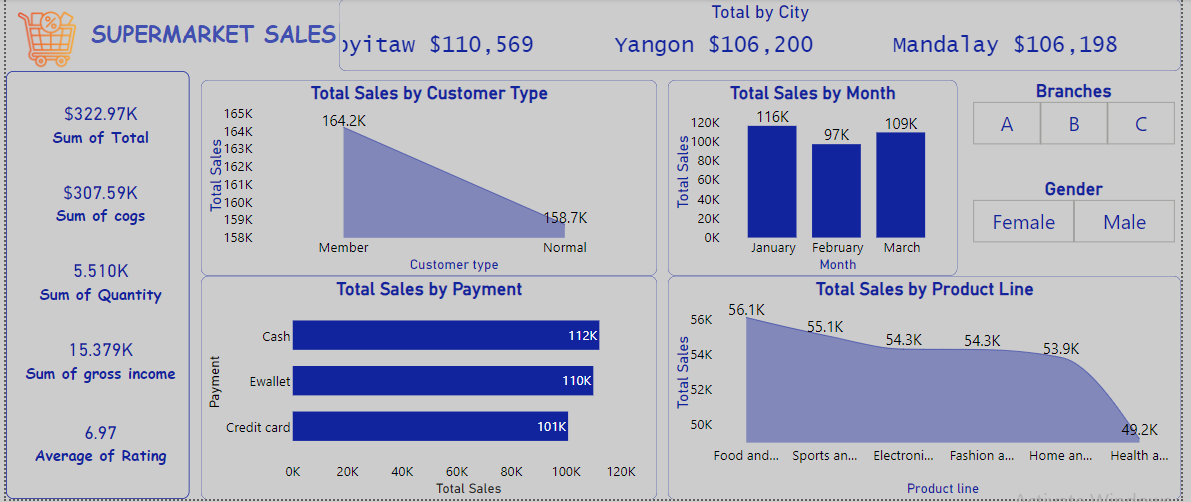

The page's visual inventory and layout, read from the dashboard file:
{"tool":"powerbi","page":{"name":"Page 1","canvas":[4700,2000],"ordinal":0},"visuals":[{"type":"textbox","box":[327.6,69.9,1004.6,144.1],"z":0},{"type":"image","box":[0,30.6,327.6,257.7],"z":1},{"type":"ScrollingTextVisual1448795304508","title":"Total by City","fields":{"Measure Absolute":["Sum(supermarket_sales - Sheet1.Total)"],"Category":["supermarket_sales - Sheet1.City"]},"box":[1332.2,0,3367.8,288.3],"z":2},{"type":"shape","box":[0,288,733.8,1712.3],"z":3,"group":"g1"},{"type":"card","title":"Total Sales","fields":{"Values":["Sum(supermarket_sales - Sheet1.Total)"]},"box":[23.2,323.2,709.8,333.5],"z":4,"group":"g1"},{"type":"card","title":"Total Sales","fields":{"Values":["Sum(supermarket_sales - Sheet1.Quantity)"]},"box":[24,951.5,708,332],"z":8,"group":"g1"},{"type":"card","title":"Total Sales","fields":{"Values":["Sum(supermarket_sales - Sheet1.gross income)"]},"box":[24,1266.6,708,332],"z":8,"group":"g1"},{"type":"card","title":"Total Sales","fields":{"Values":["Sum(supermarket_sales - Sheet1.cogs)"]},"box":[25.3,639.8,707.5,328.5],"z":9,"group":"g1"},{"type":"card","title":"Total Sales","fields":{"Values":["Avg(supermarket_sales - Sheet1.Rating)"]},"box":[25.3,1581.8,707.5,368.9],"z":10,"group":"g1"},{"type":"barChart","title":"Total Sales by Payment","fields":{"Category":["supermarket_sales - Sheet1.Payment"],"Y":["Sum(supermarket_sales - Sheet1.Total)"]},"box":[778.3,1106.8,1824.4,894.5],"z":12},{"type":"areaChart","title":"Total Sales by Customer Type","fields":{"Y":["Sum(supermarket_sales - Sheet1.Total)"],"Category":["supermarket_sales - Sheet1.Customer type"]},"box":[778.3,323.4,1824.4,783.3],"z":13},{"type":"areaChart","title":"Total Sales by Product Line","fields":{"Y":["Sum(supermarket_sales - Sheet1.Total)"],"Category":["supermarket_sales - Sheet1.Product line"]},"box":[2648.2,1106.8,2051.8,894.5],"z":14},{"type":"columnChart","title":"Total Sales by Month","fields":{"Category":["supermarket_sales - Sheet1.Date.Variation.Date Hierarchy.Month"],"Y":["Sum(supermarket_sales - Sheet1.Total)"]},"box":[2648.2,323.4,1157.3,783.3],"z":15},{"type":"slicer","title":"Branches","fields":{"Values":["supermarket_sales - Sheet1.Branch"]},"box":[3845.9,323.4,854.1,262.8],"z":16},{"type":"slicer","title":"Gender","fields":{"Values":["supermarket_sales - Sheet1.Gender"]},"box":[3845.9,717.6,854.1,262.8],"z":17},{"type":"group","id":"g1","title":"Group 1","box":[0,288,733.8,1712.3],"z":18}]}

Visuals, with their boxes in screenshot pixels (x1, y1, x2, y2), scaled from the page's 4700x2000 canvas onto the 1191x502 screenshot:
textbox: select_region(83, 18, 338, 54)
image: select_region(0, 8, 83, 72)
"Total by City" ScrollingTextVisual1448795304508: select_region(338, 0, 1190, 72)
shape: select_region(0, 72, 186, 501)
"Total Sales" card: select_region(6, 81, 186, 165)
"Total Sales" card: select_region(6, 239, 185, 322)
"Total Sales" card: select_region(6, 318, 185, 401)
"Total Sales" card: select_region(6, 161, 186, 243)
"Total Sales" card: select_region(6, 397, 186, 490)
"Total Sales by Payment" barChart: select_region(197, 278, 660, 501)
"Total Sales by Customer Type" areaChart: select_region(197, 81, 660, 278)
"Total Sales by Product Line" areaChart: select_region(671, 278, 1190, 501)
"Total Sales by Month" columnChart: select_region(671, 81, 964, 278)
"Branches" slicer: select_region(975, 81, 1190, 147)
"Gender" slicer: select_region(975, 180, 1190, 246)
"Group 1" group: select_region(0, 72, 186, 501)
